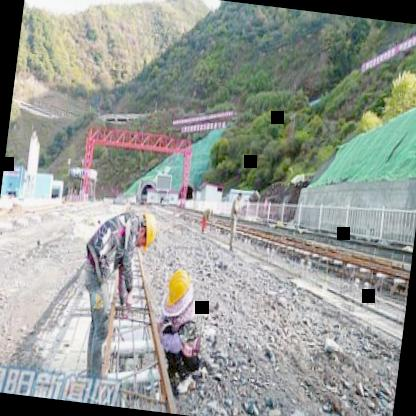helmet: (161, 262, 195, 319), (128, 207, 160, 258)
